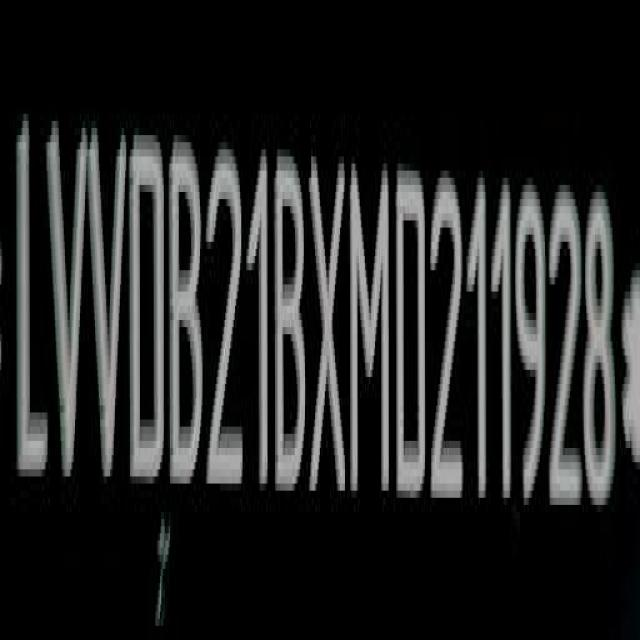1: (250, 145, 273, 494), (489, 174, 513, 506), (467, 174, 488, 506)
2: (209, 140, 246, 492), (548, 186, 582, 513), (433, 172, 465, 508)
8: (587, 193, 618, 505)
9: (515, 184, 547, 511)
B: (173, 138, 207, 490), (275, 145, 307, 489)
D: (130, 126, 165, 484), (395, 167, 429, 504)
L: (16, 112, 48, 486)
M: (350, 157, 392, 494)
V: (90, 119, 129, 485), (49, 122, 88, 486)
X: (308, 150, 346, 499)
